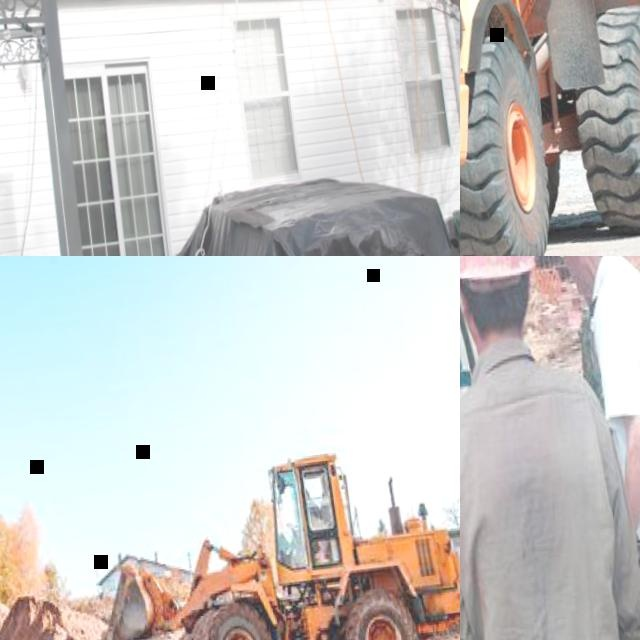Hardhat: (460, 256, 640, 640)
NO-Mask: (566, 258, 596, 297)
NO-Safety Vest: (460, 358, 640, 640), (594, 258, 640, 542), (575, 315, 601, 390)
Person: (548, 256, 640, 640), (564, 256, 640, 398)
machinery: (78, 424, 460, 640), (460, 0, 640, 256)
vehicle: (460, 256, 640, 640)
